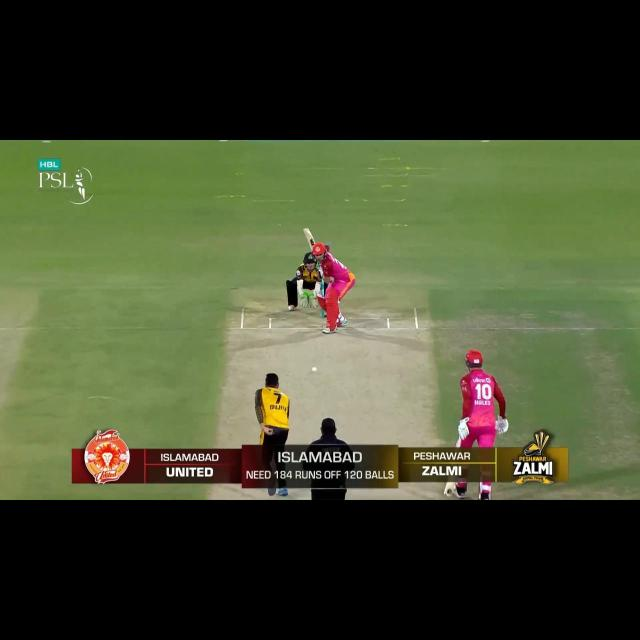bat: (301, 227, 319, 248)
toe: (443, 483, 454, 496), (302, 228, 311, 234)
